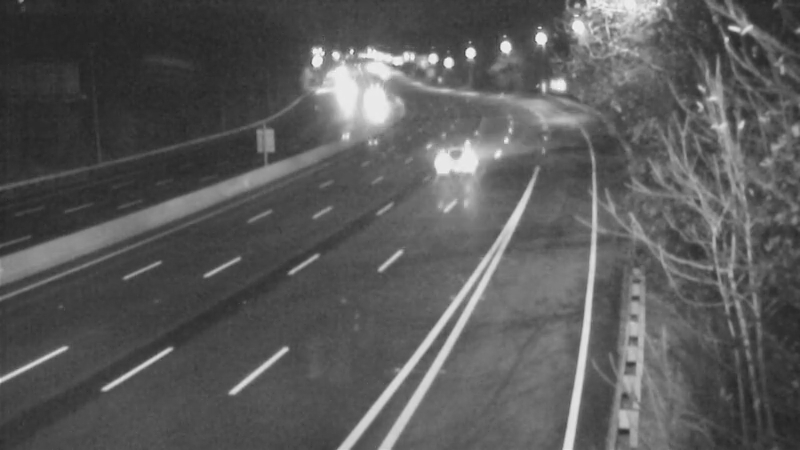vehicle: (414, 124, 494, 204), (345, 85, 395, 135), (323, 70, 373, 120)
